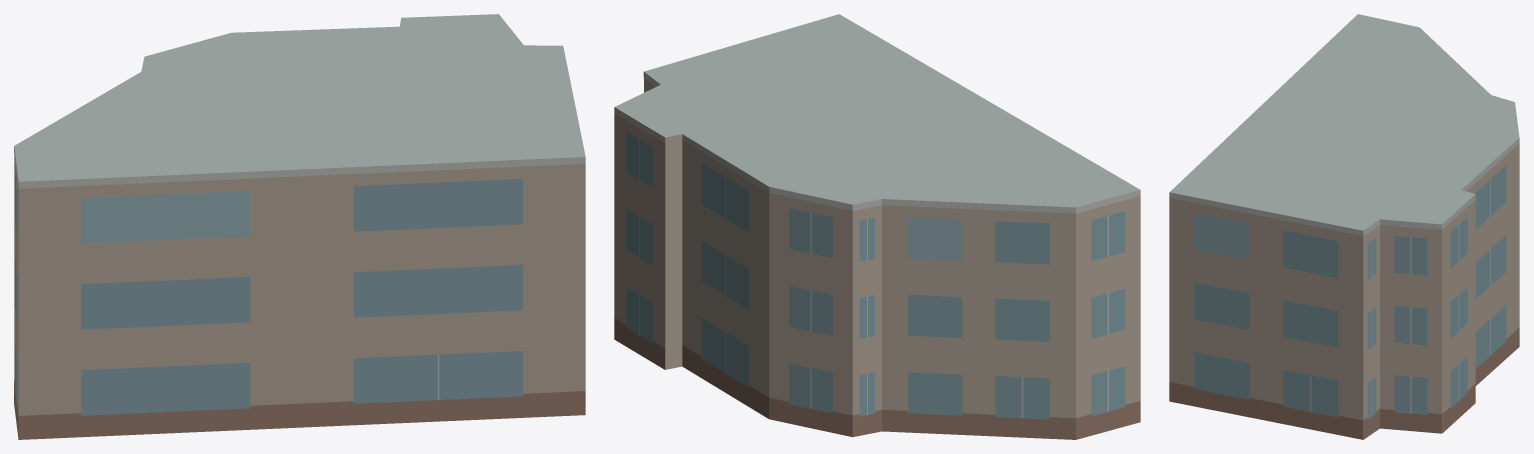
File: survey-upis-32992282.glb
3 renders of one model, left to right at view 1: azimuth 30°, elevation 25°; view 2: azimuth 150°, elevation 25°; view 3: azimuth 270°, elevation 25°, orthographic. The views are drawn at different scales.
Visible parts, largest first — view 1: survey-upis-32992282.tmp; view 2: survey-upis-32992282.tmp; view 3: survey-upis-32992282.tmp.
Part boxes in pixels (x1=…): survey-upis-32992282.tmp: x1=14, y1=14, x2=585, y2=439; survey-upis-32992282.tmp: x1=614, y1=14, x2=1140, y2=439; survey-upis-32992282.tmp: x1=1169, y1=14, x2=1519, y2=439.
Size of the model in its own units: 20.35 by 9.15 by 13.89.
